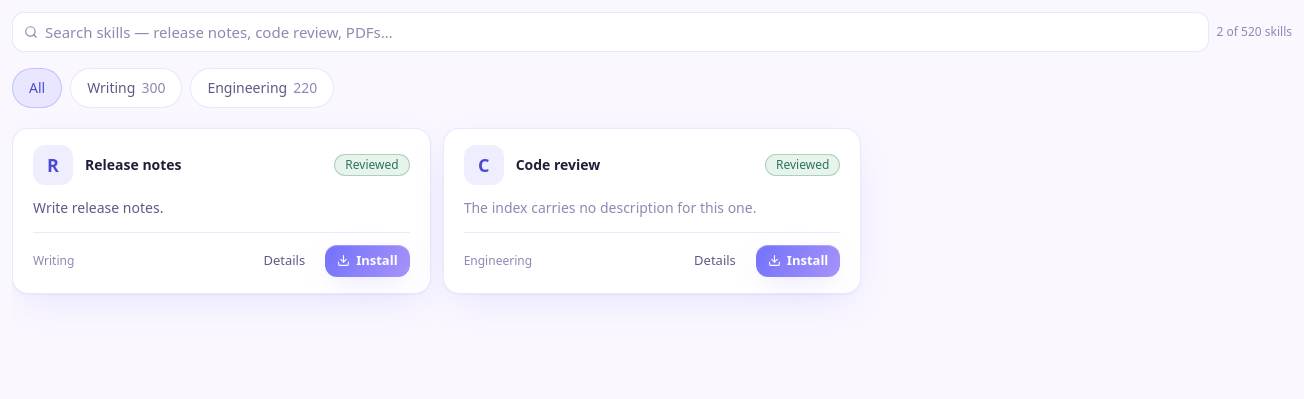
it: SkillCatalogGallery › does not report an empty catalog when a search simply missed
Expected: the list item with test id "skill-release-notes" is shown, [12,128,431,294]
Type "zzz-nothing" into the search field labelled "Search skills" at (610, 32), box [12,12,1209,52]
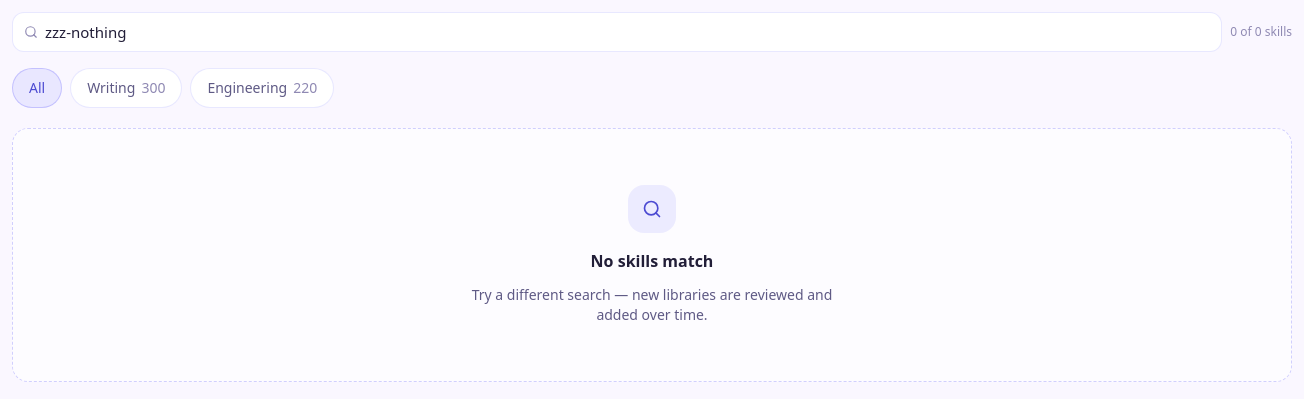
Expected: the text "No skills match" is shown, [591,249,713,273]
